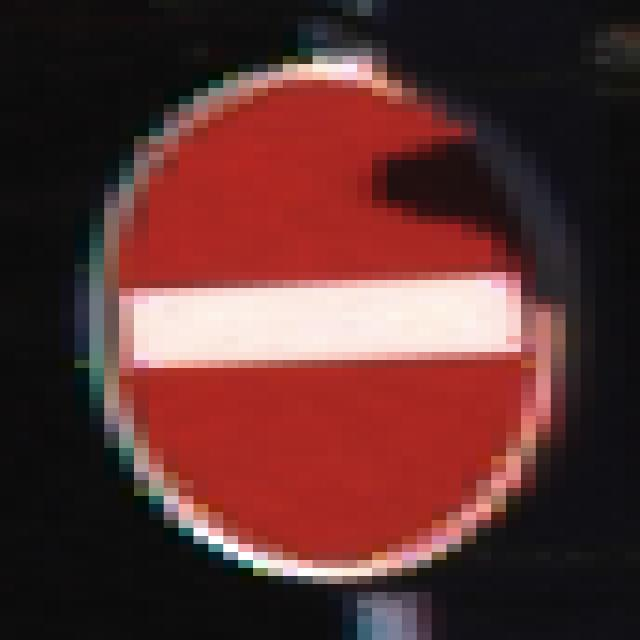No Entry: (76, 65, 567, 585)
